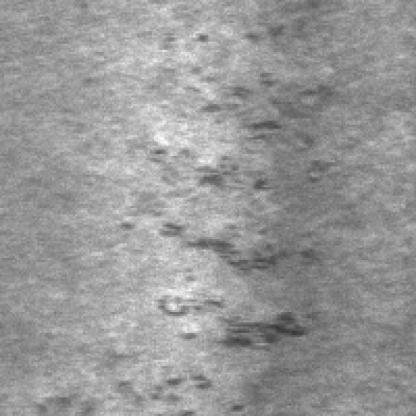rolled-in_scale: (133, 21, 302, 196), (114, 214, 312, 356), (42, 368, 241, 412)
